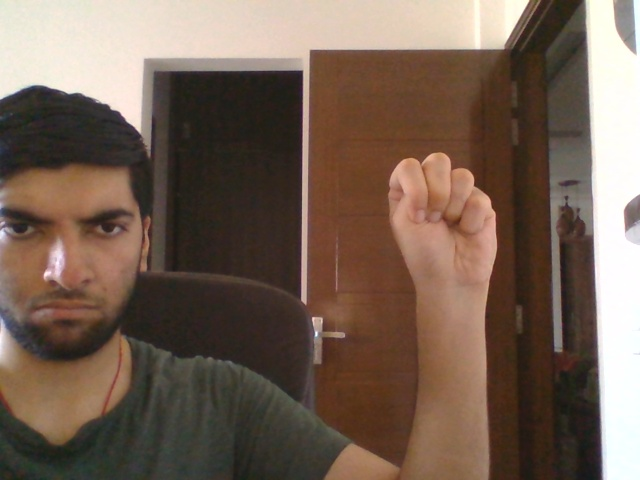LetterM: (386, 151, 499, 298)
